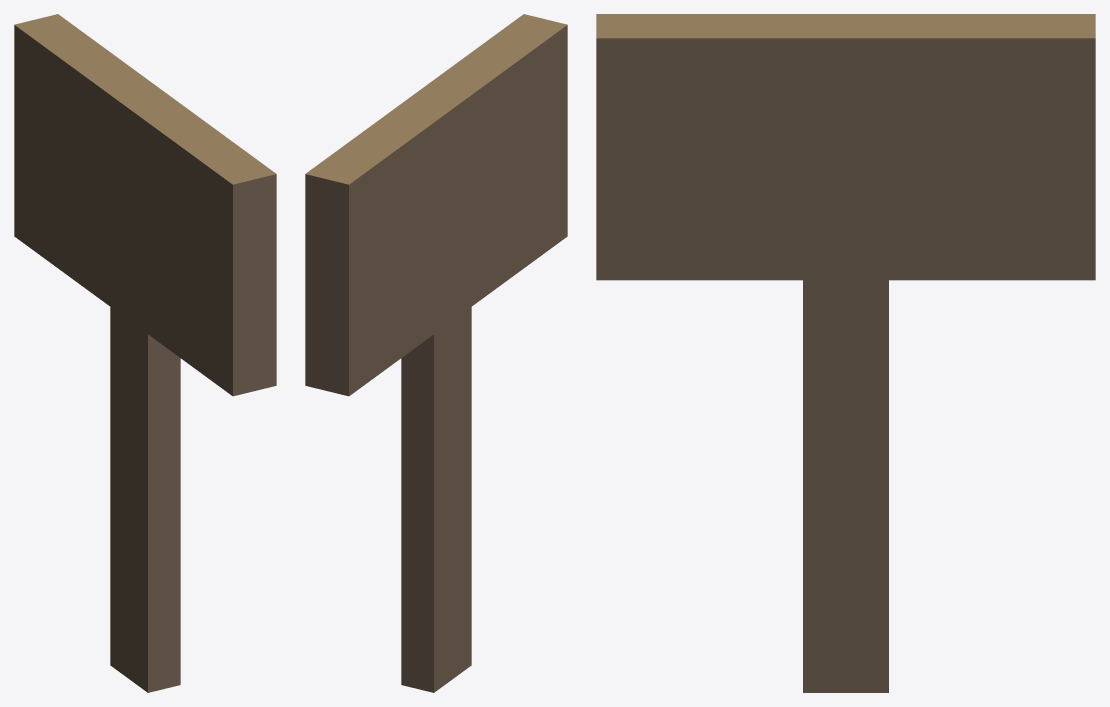
The model's file is sign.fbx.
3 views of the same model, side by side, from view 1: azimuth 30°, elevation 25°; view 2: azimuth 150°, elevation 25°; view 3: azimuth 270°, elevation 25° (orthographic). The views are drawn at different scales.
Parts seen in each view (by area): view 1: Sign; view 2: Sign; view 3: Sign.
Part boxes in pixels (left/top/right/bottom): Sign: left=14, top=14, right=276, bottom=692; Sign: left=305, top=14, right=567, bottom=692; Sign: left=596, top=14, right=1095, bottom=692.
Bounding box in the file's own units: 25.21 × 316 × 218.
